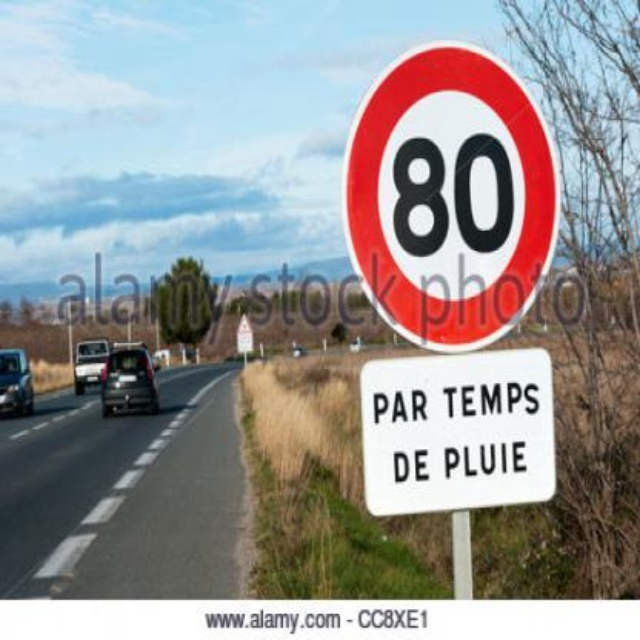Tốc độ tối đa cho phép 80km/h: (350, 47, 551, 345)
